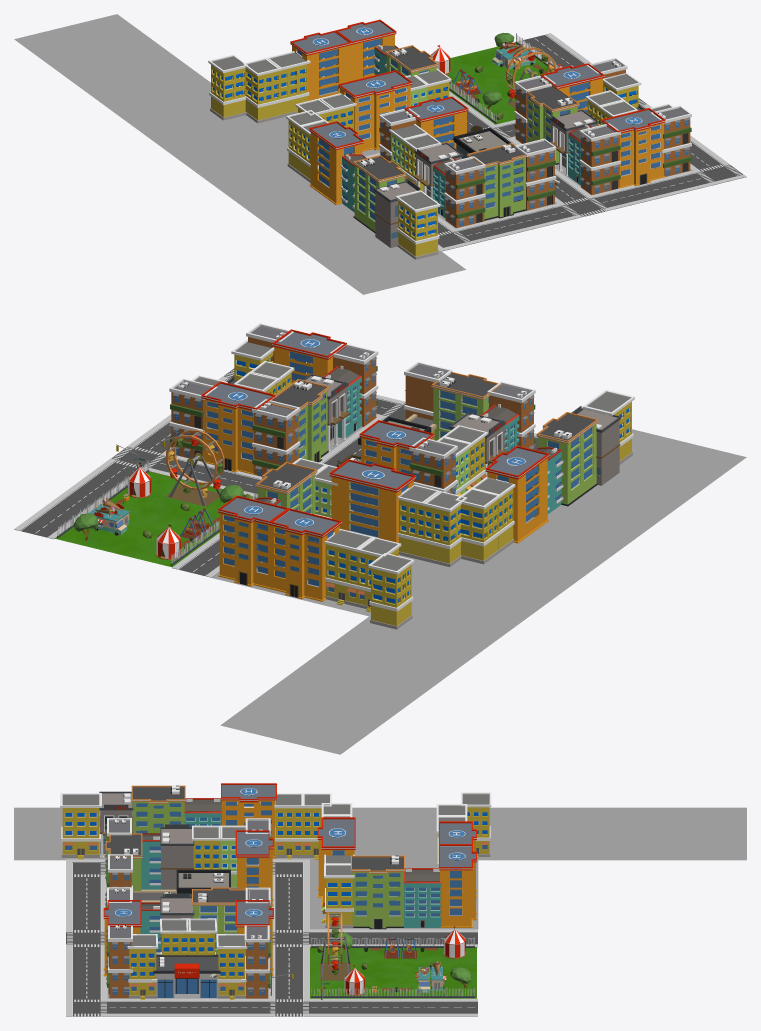
Rendered from mapAJ2.glb.
The picture shows the model from 3 angles, top to bottom: view 1: azimuth 30°, elevation 25°; view 2: azimuth 150°, elevation 25°; view 3: azimuth 270°, elevation 25°; orthographic projection. The views are drawn at different scales.
Visible parts, largest first — view 1: Attraction_5_Color_Palette_0.001; view 2: Attraction_5_Color_Palette_0.001; view 3: Attraction_5_Color_Palette_0.001.
Boxes of the visible parts, x1=… form: Attraction_5_Color_Palette_0.001: x1=14, y1=14, x2=746, y2=294; Attraction_5_Color_Palette_0.001: x1=14, y1=323, x2=746, y2=754; Attraction_5_Color_Palette_0.001: x1=14, y1=783, x2=746, y2=1016.
Size of the model in its own units: 238 by 33 by 352.
177 materials, 171 textured.
